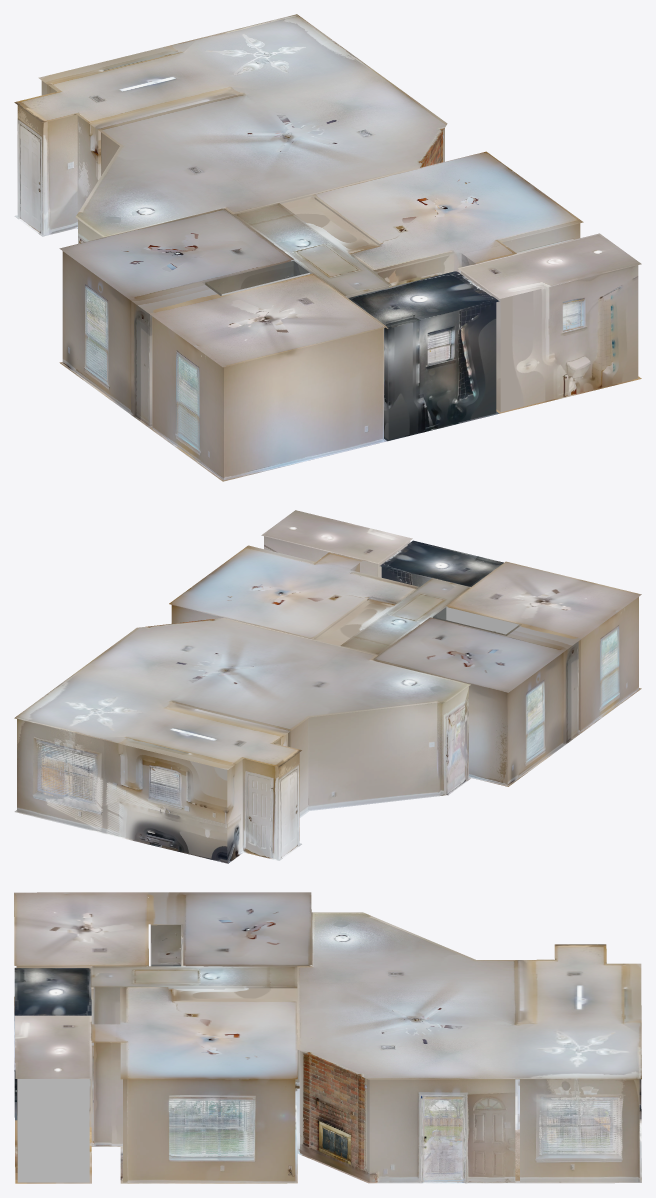
Rendered from interior.glb.
3 views of the same model, one above another, from view 1: azimuth 30°, elevation 25°; view 2: azimuth 150°, elevation 25°; view 3: azimuth 270°, elevation 25° (orthographic). The views are drawn at different scales.
Parts seen in each view (by area): view 1: ceiling_1, ceiling_3, walls_8, ceiling_5, walls_5, ceiling_4, walls_11, ceiling_12, walls_7, walls_9, walls_6, walls_10; view 2: walls_9, ceiling_1, ceiling_3, walls_10, ceiling_5, walls_7, ceiling_4, ceiling_12, walls_8, walls_6, walls_11, floor_5; view 3: ceiling_1, ceiling_3, walls_10, walls_7, ceiling_5, walls_9, ceiling_4, ceiling_12, walls_5, walls_6, walls_11, floor_0 (+3 smaller).
Boxes of the visible parts, x1,y1,x2,y2 form: ceiling_1: (75,64,447,237); ceiling_3: (59,151,583,313); walls_8: (98,130,383,479); ceiling_5: (14,14,364,129); walls_5: (461,265,638,412); ceiling_4: (149,196,386,367); walls_11: (346,255,496,439); ceiling_12: (347,233,641,328); walls_7: (62,251,290,427); walls_9: (17,80,309,235); walls_6: (205,197,580,295); walls_10: (78,128,444,273); walls_9: (17,660,374,862); ceiling_1: (70,618,471,730); ceiling_3: (169,545,580,692); walls_10: (288,608,468,815); ceiling_5: (14,677,302,769); walls_7: (171,605,580,785); ceiling_4: (315,561,641,645); ceiling_12: (261,510,503,586); walls_8: (448,597,638,731); walls_6: (225,536,519,639); walls_11: (381,567,447,608); floor_5: (14,810,301,863); ceiling_1: (297,912,517,1079); ceiling_3: (91,892,311,1079); walls_10: (232,967,515,1182); walls_7: (123,924,309,1182); ceiling_5: (517,944,641,1079); walls_9: (520,960,639,1182); ceiling_4: (14,892,297,1000); ceiling_12: (14,967,91,1078); walls_5: (17,1079,89,1182); walls_6: (94,925,180,1145); walls_11: (17,986,299,1115); floor_0: (297,1079,517,1183).
Bounding box in the file's own units: 9.4 × 2.48 × 13.32.
Materials: 15 (15 with a texture image).
